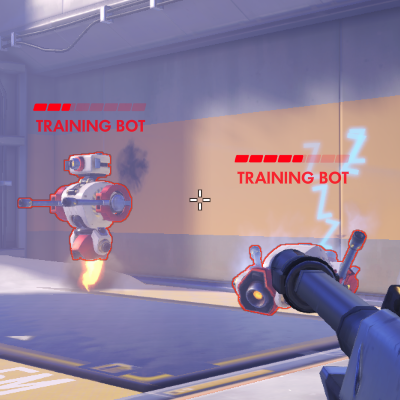hpbar: (234, 154, 350, 163), (33, 103, 146, 112)
